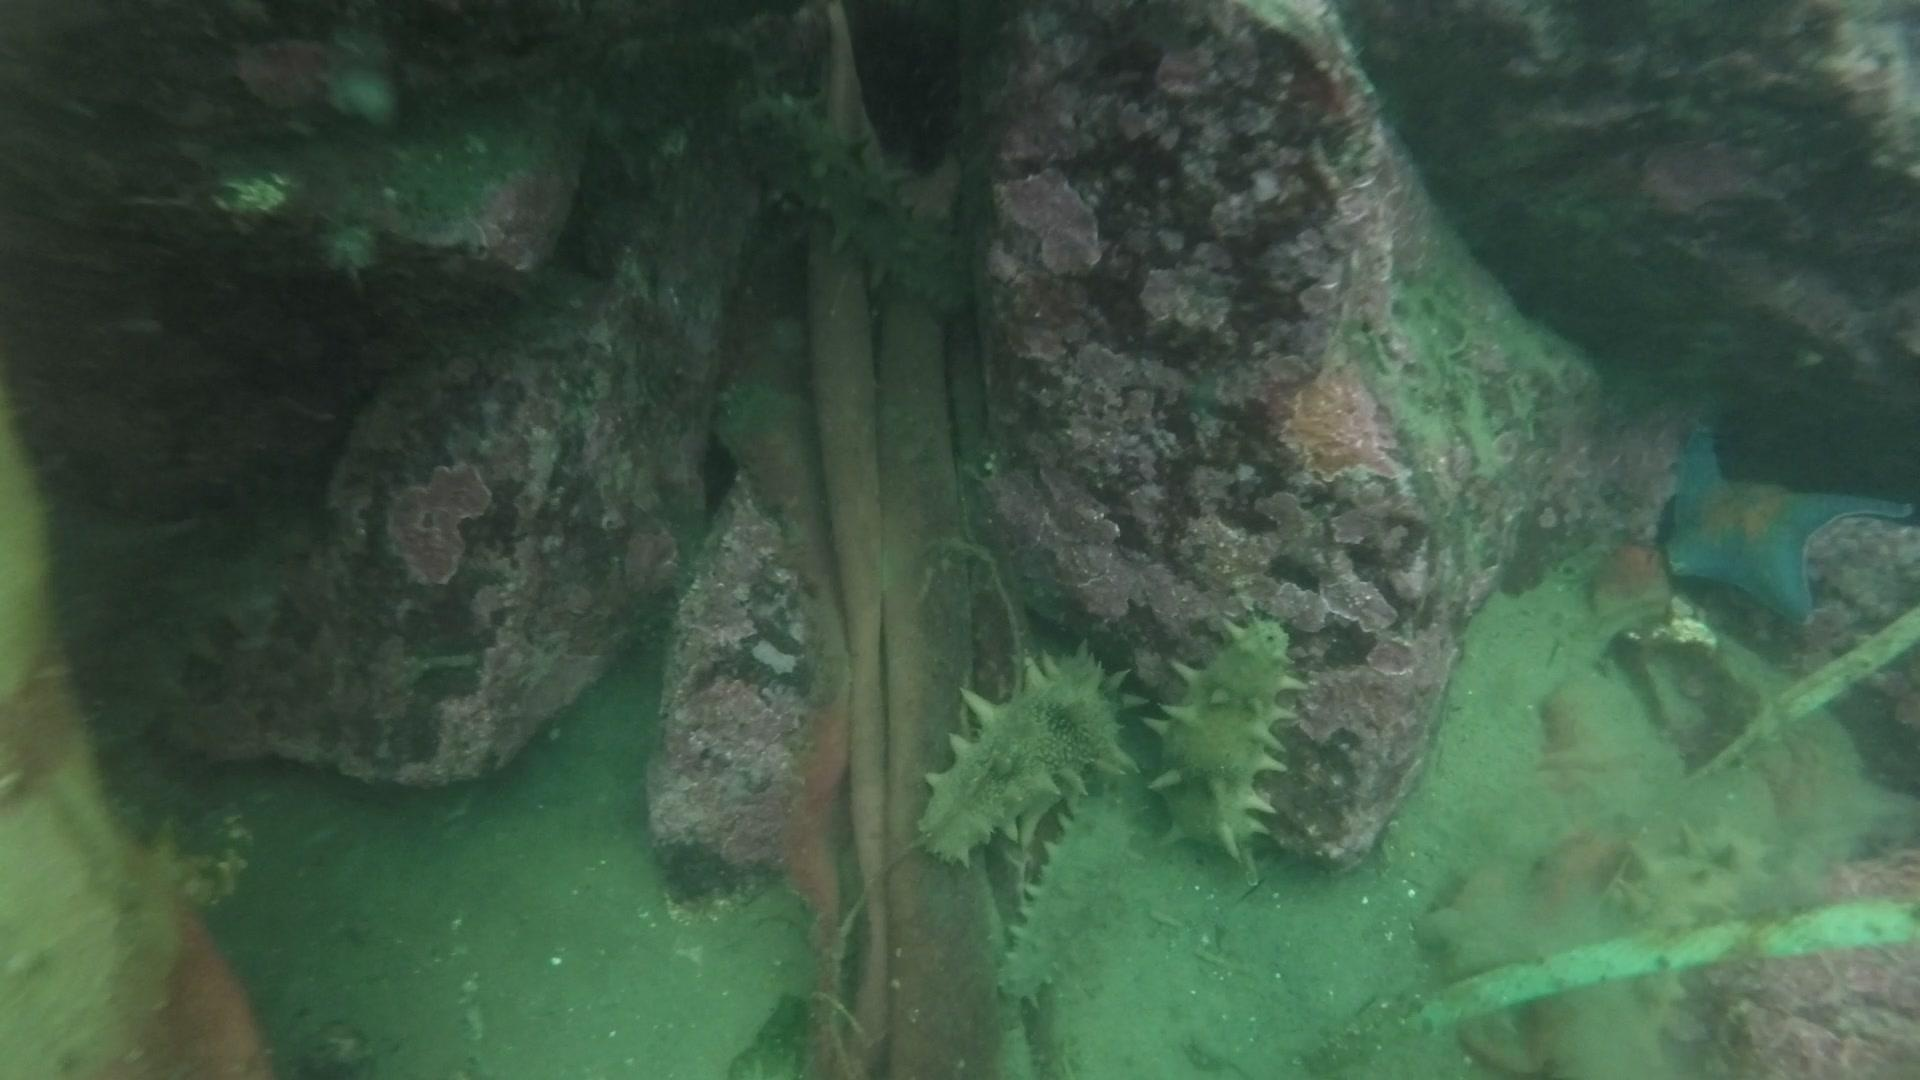holothurian: (732, 84, 977, 318), (909, 644, 1143, 872), (1139, 607, 1312, 876), (1601, 815, 1883, 945), (990, 790, 1146, 1014)
starfish: (1650, 425, 1912, 630)
